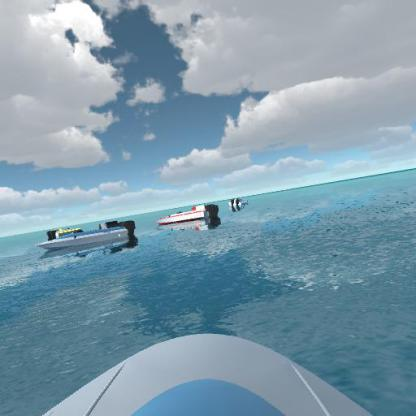usv1: (36, 218, 140, 256), (226, 192, 254, 211)
usv2: (45, 221, 84, 240)
usv3: (154, 201, 224, 230)
